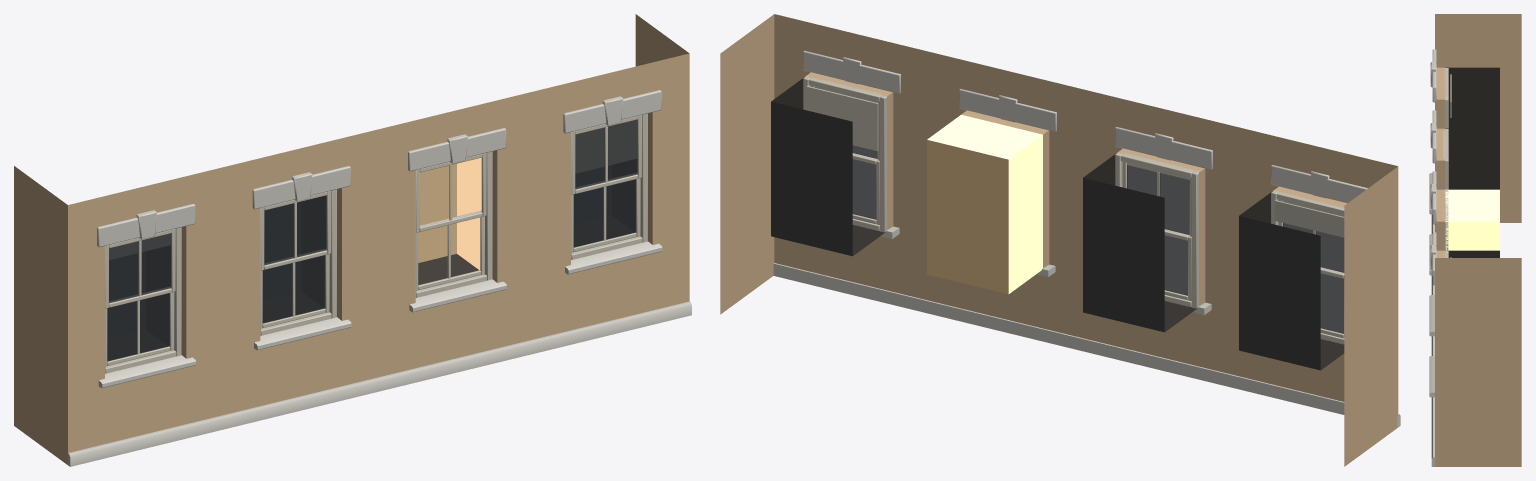
Rendered from upper_8a.glb.
3 views of the same model, side by side, from view 1: azimuth 30°, elevation 25°; view 2: azimuth 150°, elevation 25°; view 3: azimuth 270°, elevation 25° (orthographic). The views are drawn at different scales.
Parts seen in each view (by area): view 1: upper_8a; view 2: upper_8a; view 3: upper_8a.
Part boxes in pixels (bbox=[...]): upper_8a: bbox=[14, 14, 691, 466]; upper_8a: bbox=[720, 14, 1400, 466]; upper_8a: bbox=[1429, 14, 1521, 466].
Bounding box in the file's own units: 8 × 3.2 × 1.28.
